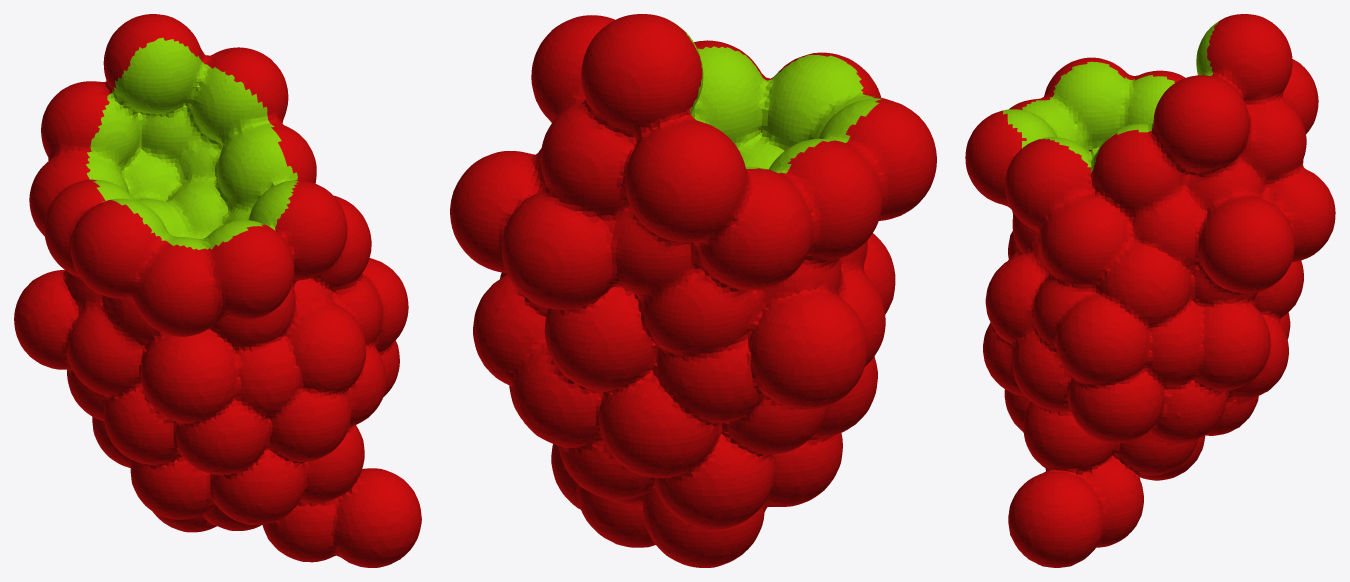
The model's file is spike_new_painted_1.obj.
3 views of the same model, side by side, from view 1: azimuth 30°, elevation 25°; view 2: azimuth 150°, elevation 25°; view 3: azimuth 270°, elevation 25° (orthographic). The views are drawn at different scales.
Parts seen in each view (by area): view 1: Sphere; view 2: Sphere; view 3: Sphere.
Boxes of the visible parts, x1=… form: Sphere: x1=14, y1=14, x2=421, y2=567; Sphere: x1=450, y1=14, x2=936, y2=567; Sphere: x1=965, y1=14, x2=1335, y2=567.
Size of the model in its own units: 7.56 by 10.98 by 7.55.
